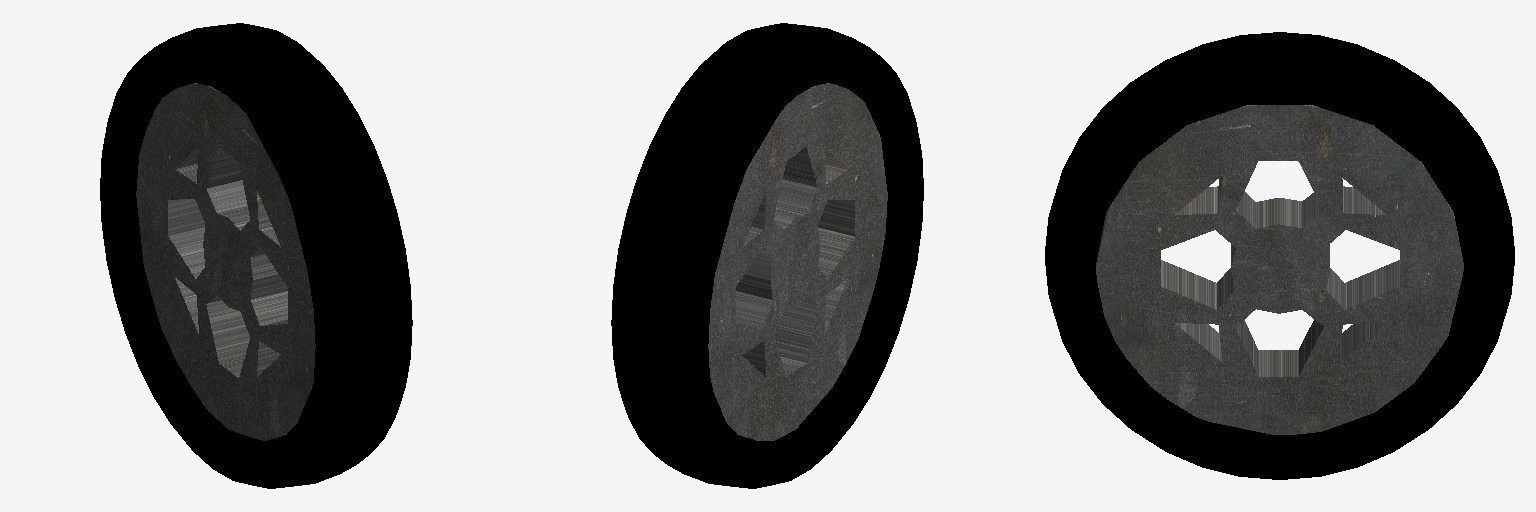
The picture shows the model from 3 angles: view 1: azimuth 30°, elevation 25°; view 2: azimuth 150°, elevation 25°; view 3: azimuth 270°, elevation 25°; orthographic projection.
Parts seen in each view (by area): view 1: BMWDEPO; view 2: BMWDEPO; view 3: BMWDEPO.
Part boxes in pixels (bbox=[...]): BMWDEPO: bbox=[100, 23, 412, 488]; BMWDEPO: bbox=[611, 23, 923, 488]; BMWDEPO: bbox=[1045, 32, 1514, 479].
Bounding box in the file's own units: 740 × 3128 × 3128.
2 materials, 1 textured.